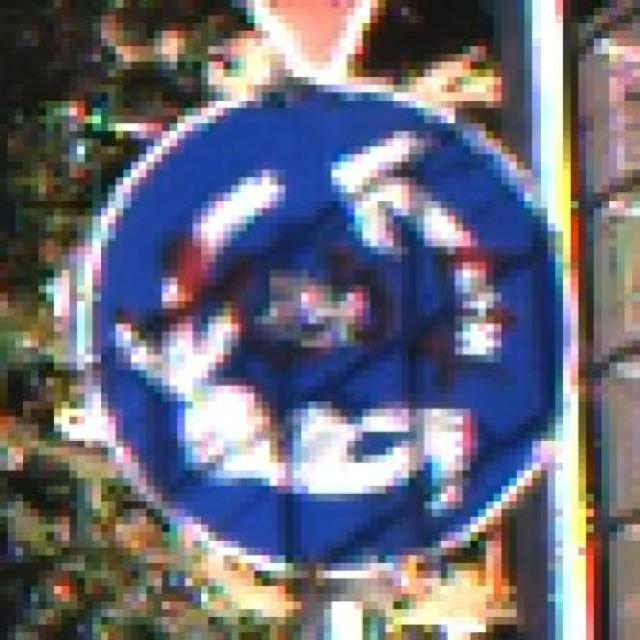Round-About: (46, 77, 602, 594)
